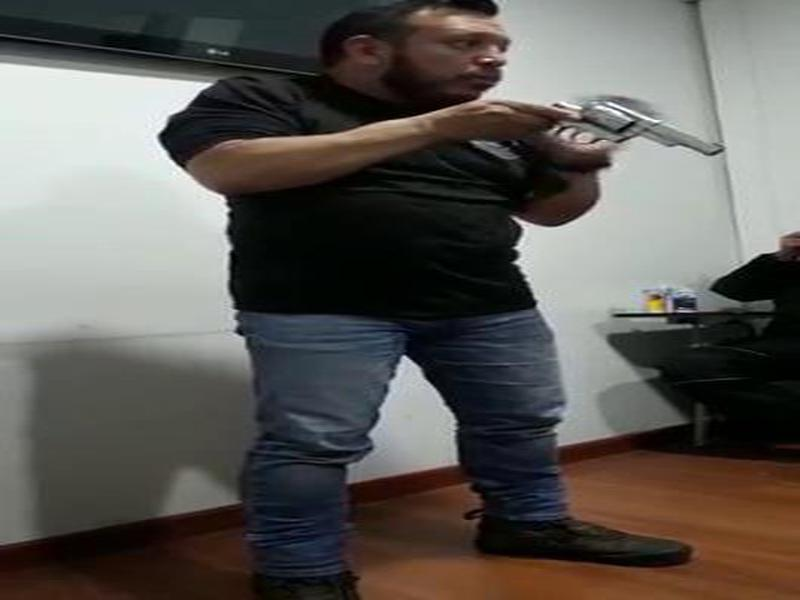Revolver: (510, 66, 724, 190)
